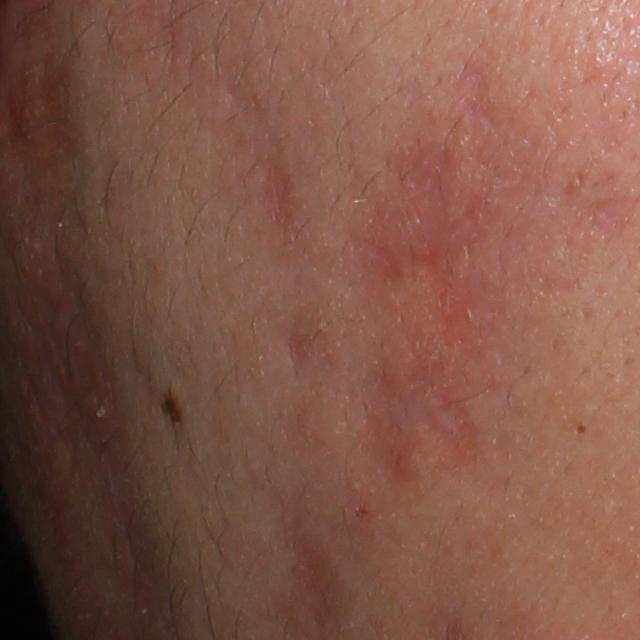atrophic_scar: (354, 68, 600, 511), (279, 293, 324, 380)
comedo: (572, 420, 588, 437)
nevus: (162, 381, 187, 429)
